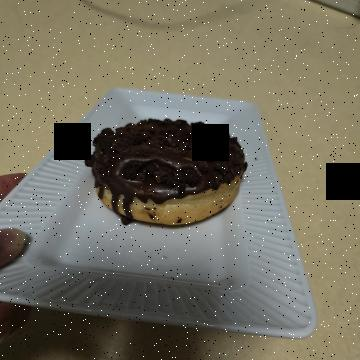doughnut: (107, 104, 254, 286)
